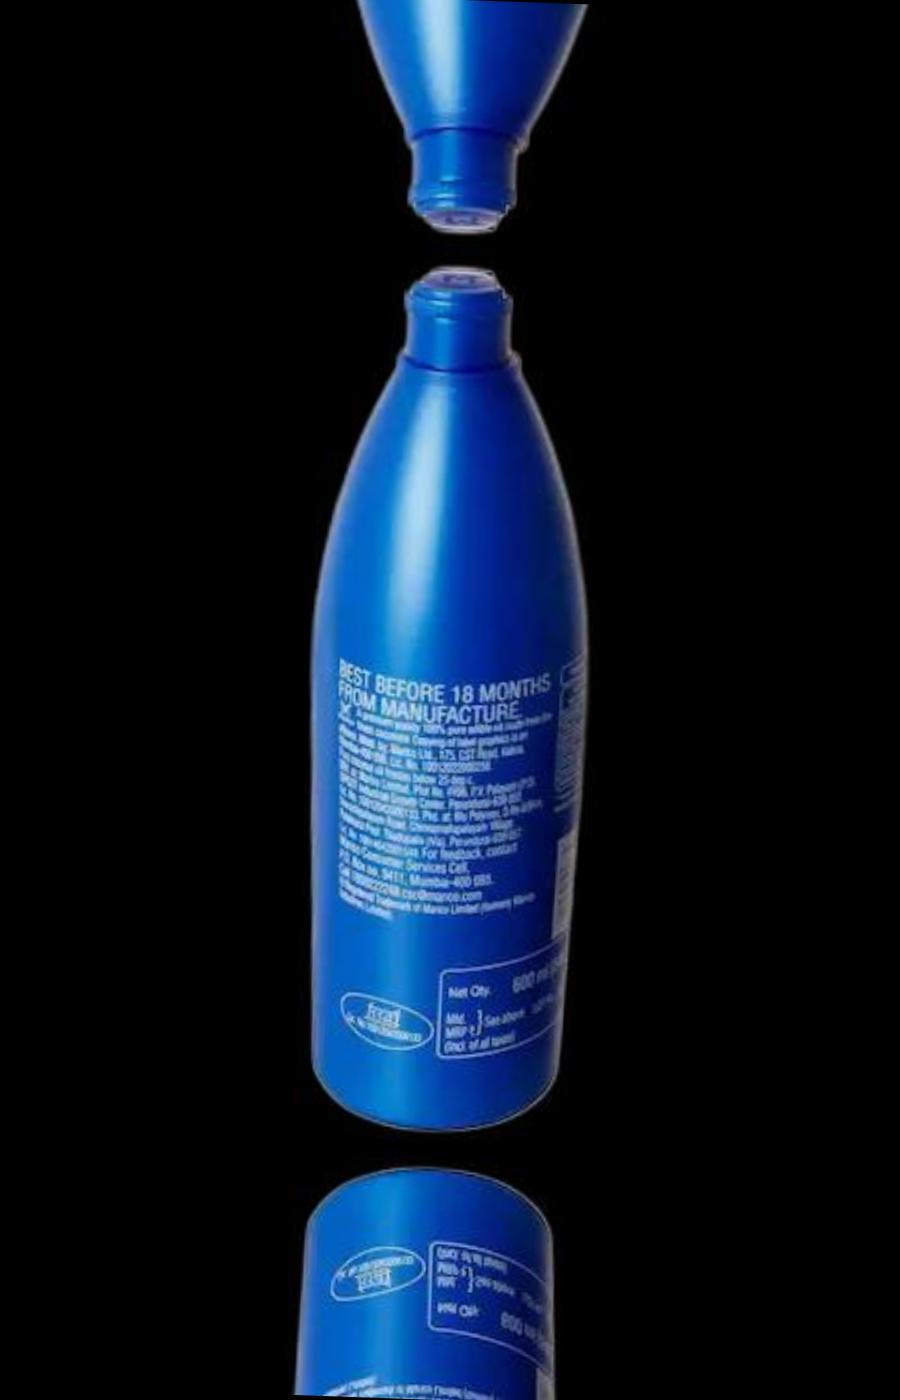Parachute Coconut Oil 600 ml - Bottle: (296, 264, 610, 1130), (327, 0, 618, 236), (286, 1168, 577, 1400)
